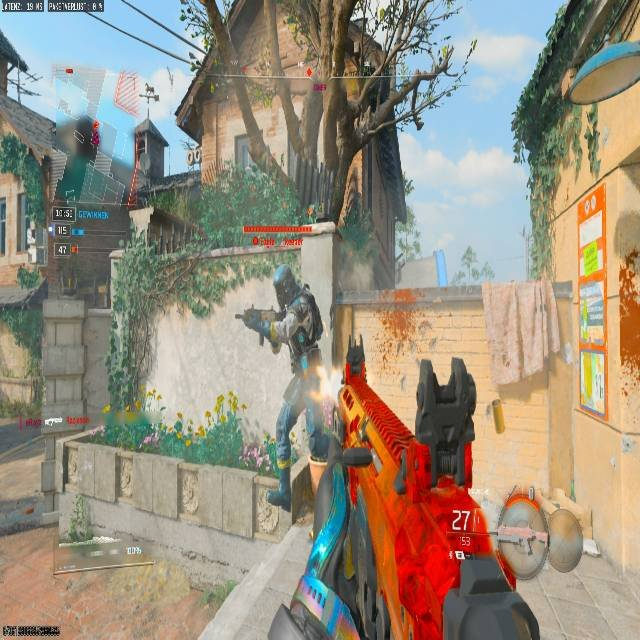head: (273, 264, 295, 301)
player: (243, 264, 325, 463)
